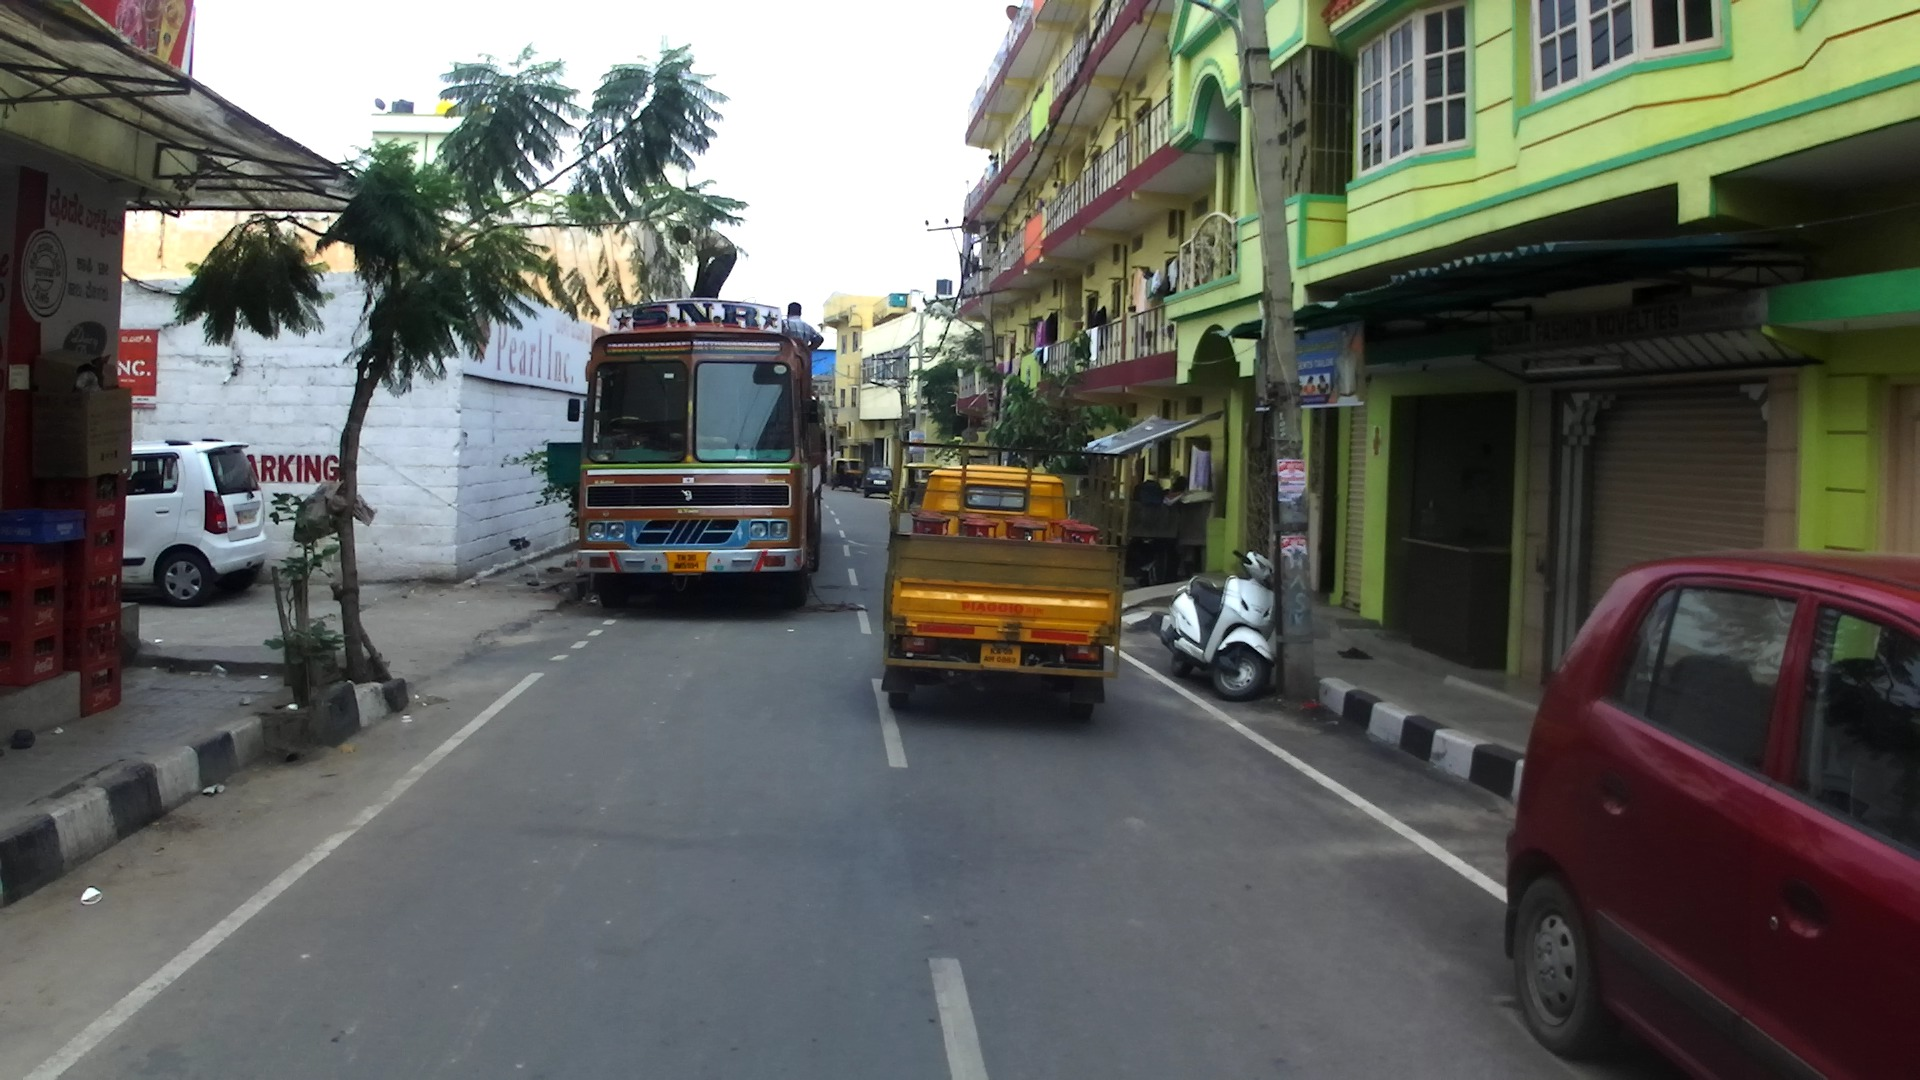autorickshaw: (883, 437, 1132, 720), (831, 457, 865, 491)
car: (1501, 549, 1920, 1080), (117, 437, 268, 609), (862, 466, 895, 499)
motorcycle: (1160, 549, 1278, 700)
person: (988, 153, 996, 163)
rider: (672, 224, 737, 300), (782, 302, 826, 355)
truck: (567, 298, 827, 609)
